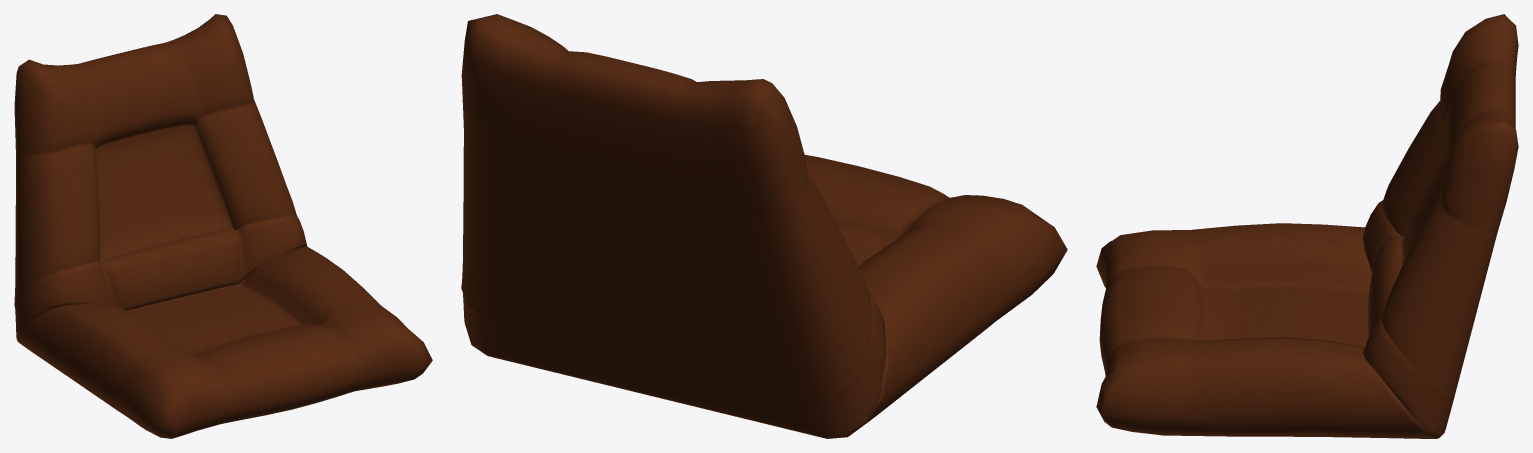
File: chair_14_04.001.fbx
The picture shows the model from 3 angles, left to right: view 1: azimuth 30°, elevation 25°; view 2: azimuth 150°, elevation 25°; view 3: azimuth 270°, elevation 25°; orthographic projection. The views are drawn at different scales.
Parts seen in each view (by area): view 1: chair_14_04.001; view 2: chair_14_04.001; view 3: chair_14_04.001.
Boxes of the visible parts, x1,y1,x2,y2 form: chair_14_04.001: [14, 14, 432, 438]; chair_14_04.001: [461, 14, 1067, 438]; chair_14_04.001: [1096, 14, 1518, 438].
Bounding box in the file's own units: 79.29 × 69.1 × 87.83.
1 material, 1 textured.
